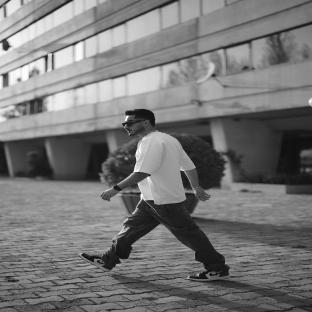Human: (80, 109, 230, 281)
